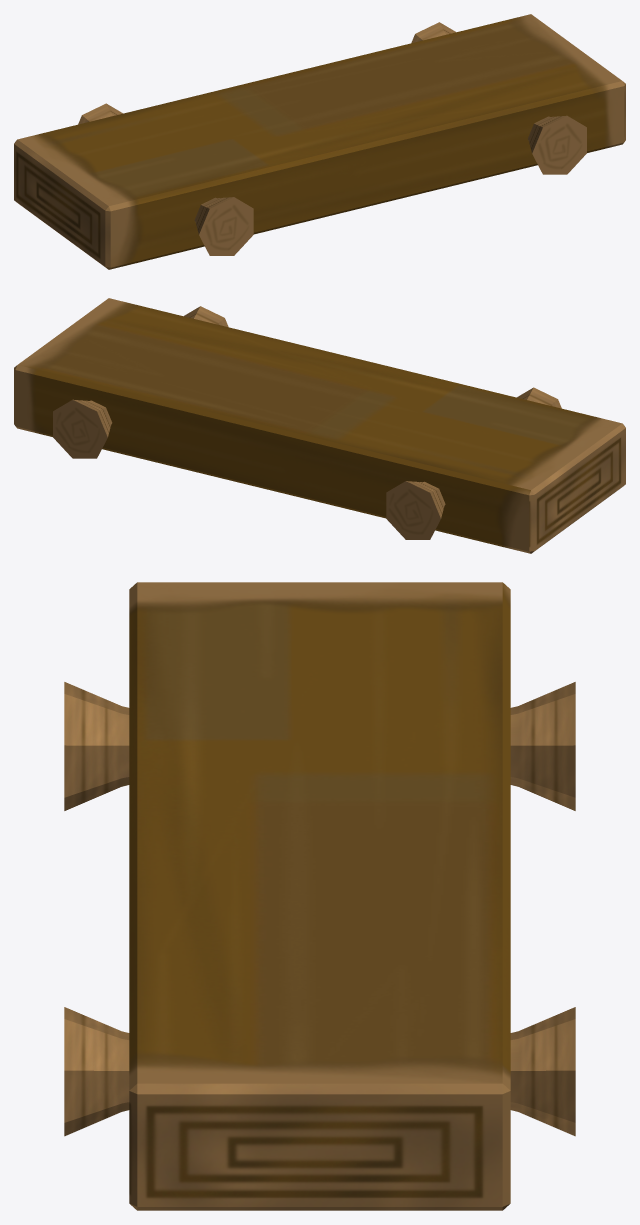
File: wood2.FBX
The picture shows the model from 3 angles, top to bottom: view 1: azimuth 30°, elevation 25°; view 2: azimuth 150°, elevation 25°; view 3: azimuth 270°, elevation 25°; orthographic projection. The views are drawn at different scales.
Visible parts, largest first — view 1: Box004; view 2: Box004; view 3: Box004.
Part boxes in pixels (<box>): Box004: <box>14,14,625,269</box>; Box004: <box>14,298,625,553</box>; Box004: <box>64,582,575,1210</box>.
Bounding box in the file's own units: 55.94 × 6.53 × 23.8.
Materials: 1 (1 with a texture image).
